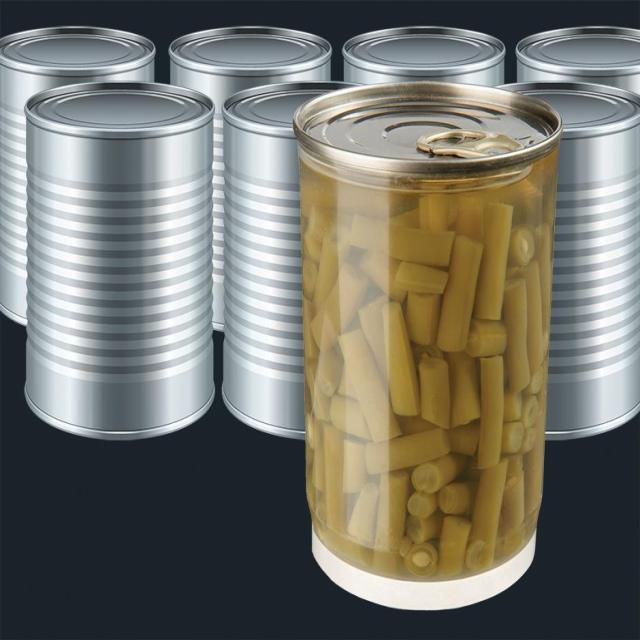metel: (292, 90, 565, 616), (20, 89, 222, 441), (455, 83, 640, 445), (227, 81, 408, 446), (344, 29, 506, 369), (170, 25, 335, 338), (1, 23, 158, 330), (515, 29, 640, 340)
